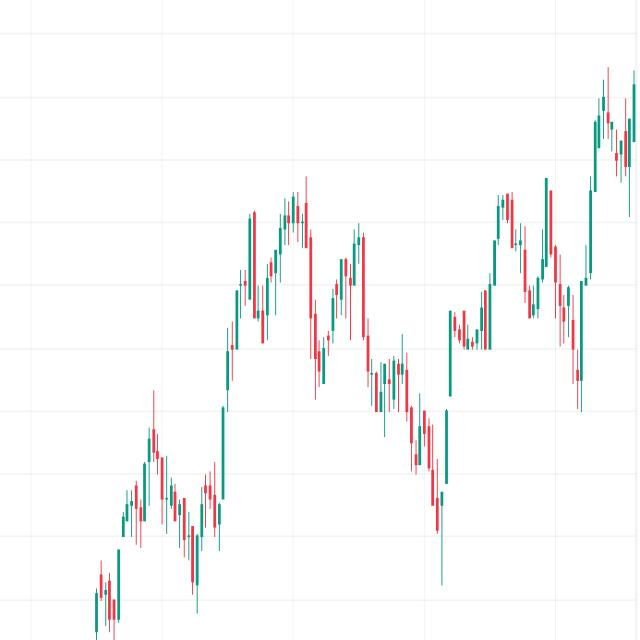Triple-Top: (220, 177, 372, 392)
